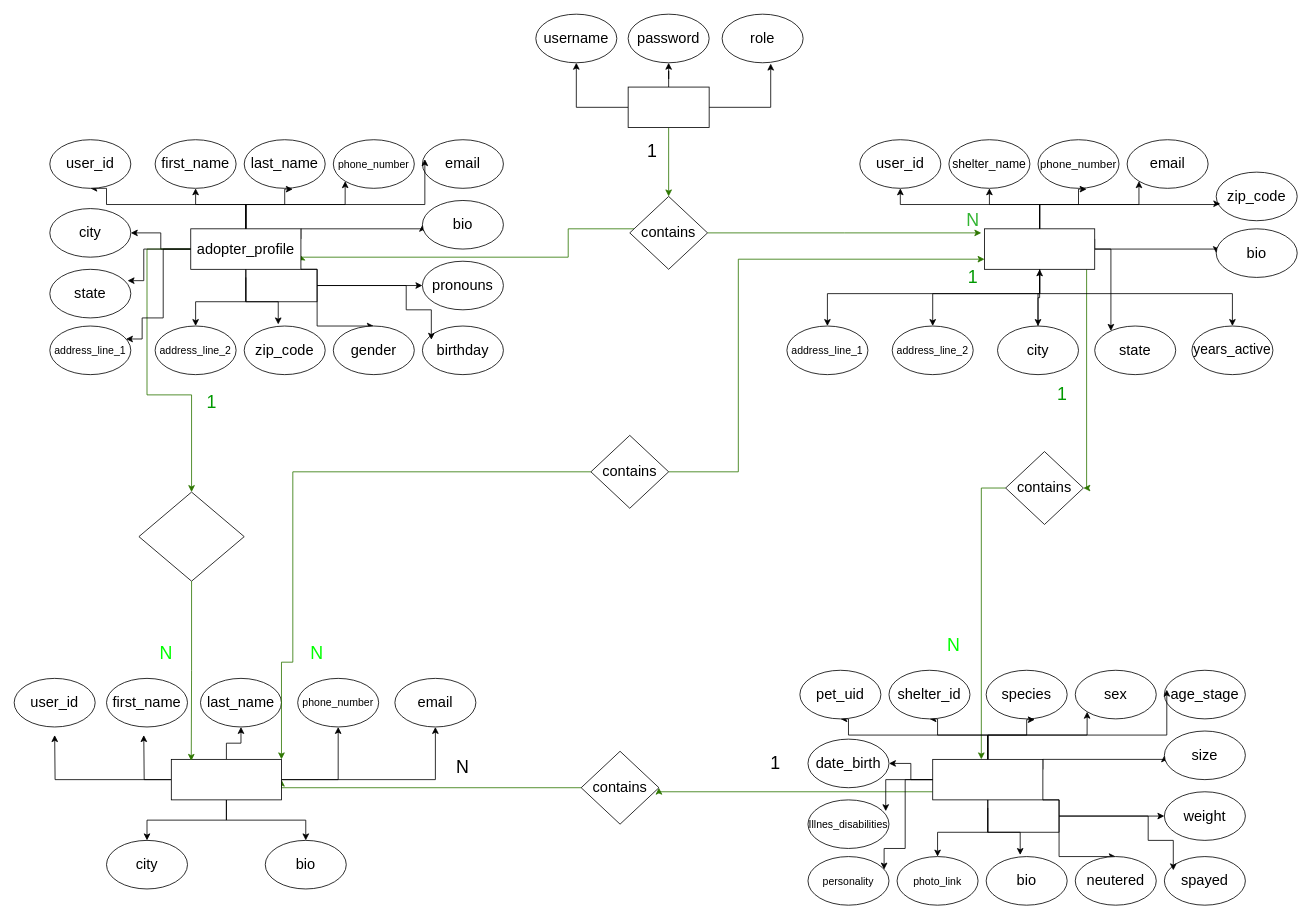
Image size: 1311x919. Some labels were removed from this diagram. The box of each missing label's shape, as (x1, y1, x2, y2) in pixels:
Applying to adopt: (138, 491, 244, 581)
pet_profile: (932, 759, 1043, 800)
request: (171, 759, 281, 800)
shelter_profile: (984, 228, 1095, 269)
users: (627, 86, 709, 128)
